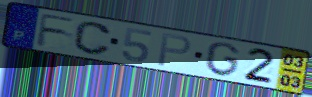2: (243, 48, 277, 86)
5: (120, 26, 153, 63)
C: (72, 20, 113, 57)
F: (35, 12, 78, 48)
G: (204, 41, 241, 78)
P: (156, 32, 194, 69)
